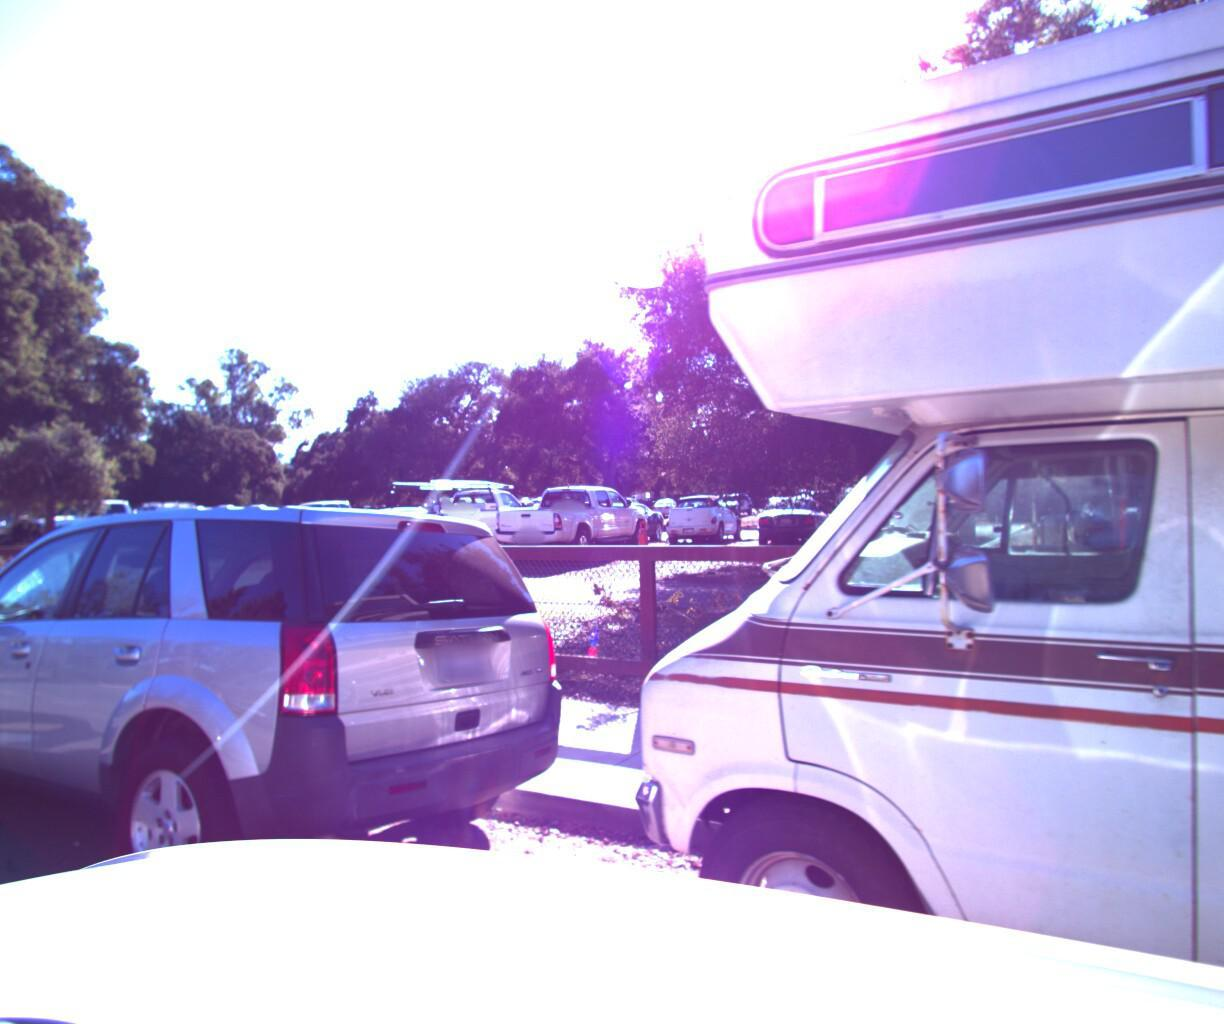car: (0, 486, 568, 916), (0, 498, 46, 786)
